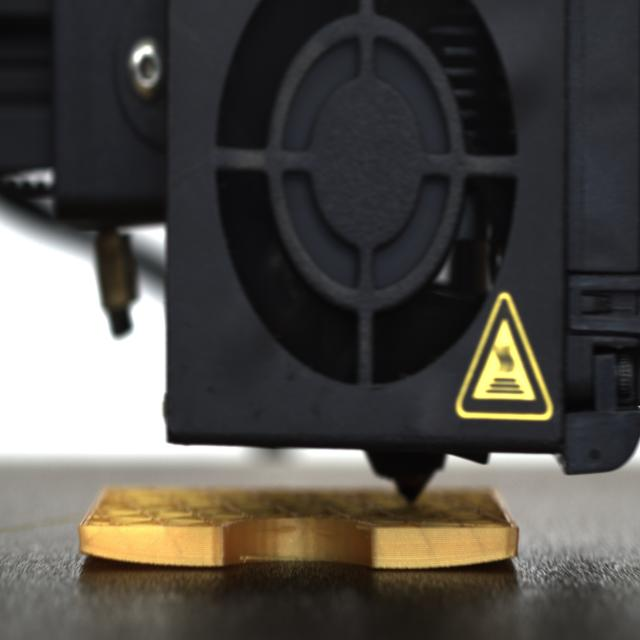Warping: (74, 541, 142, 568), (467, 545, 520, 575)
